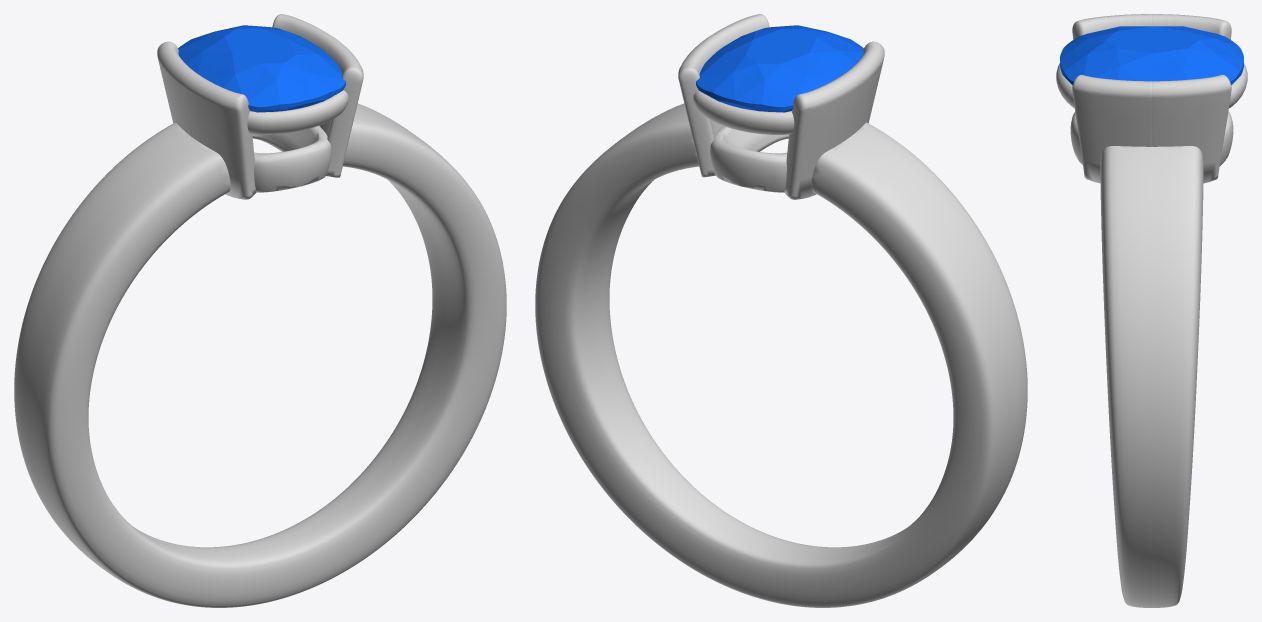
Rendered from bluesapphire-cushion-platinum-halfmoonbezel-straighttaperedband-nosidestones.glb.
3 renders of one model, left to right at view 1: azimuth 30°, elevation 25°; view 2: azimuth 150°, elevation 25°; view 3: azimuth 270°, elevation 25°, orthographic.
Parts seen in each view (by area): view 1: metal.003, stone; view 2: metal.003, stone; view 3: metal.003, stone.
Part boxes in pixels (x1,y1,x2,y2): metal.003: (14, 14, 506, 607); stone: (178, 25, 345, 112); metal.003: (535, 14, 1027, 607); stone: (696, 25, 863, 112); metal.003: (1056, 14, 1247, 607); stone: (1060, 26, 1243, 84).
Size of the model in its own units: 20.51 by 23.24 by 7.42.
